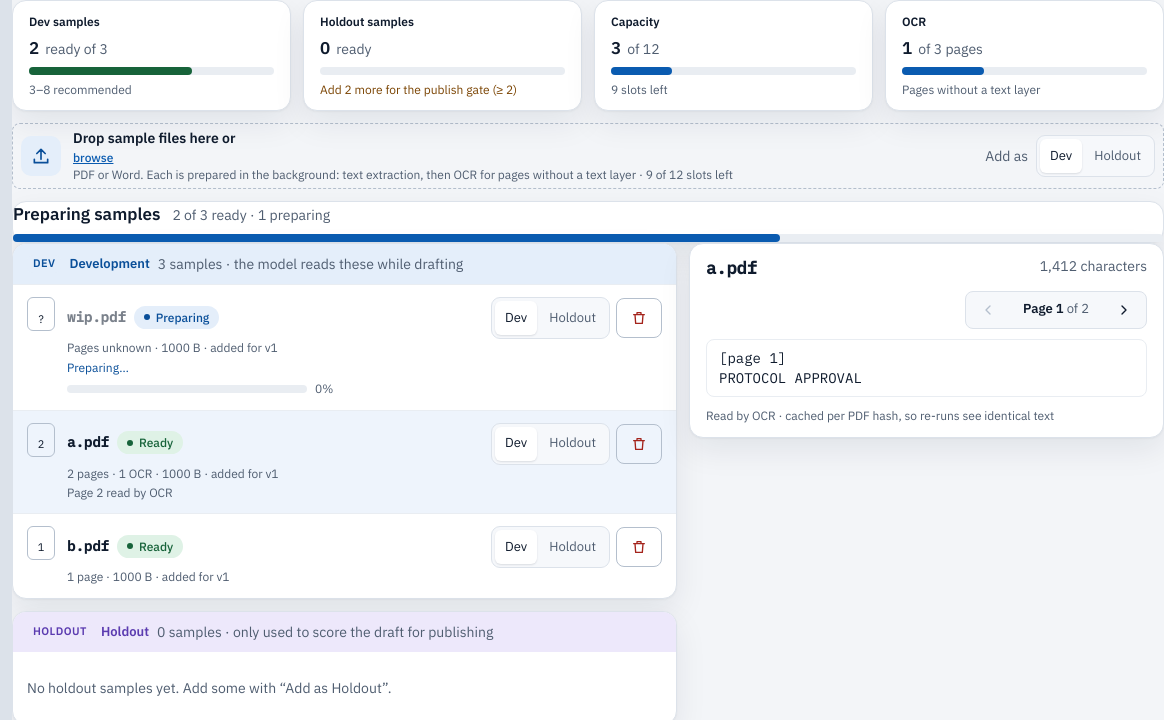
Test: SamplesTab › previews the first ready dev sample, page by page, and switches on selection
Expected: the heading "a.pdf" is shown, 706,256 -> 757,281
Expected: the element named "Text preview" shows "1,412 characters", 689,243 -> 1163,438
Click the button named "Next page": (1124, 310) 1104,294 -> 1144,326
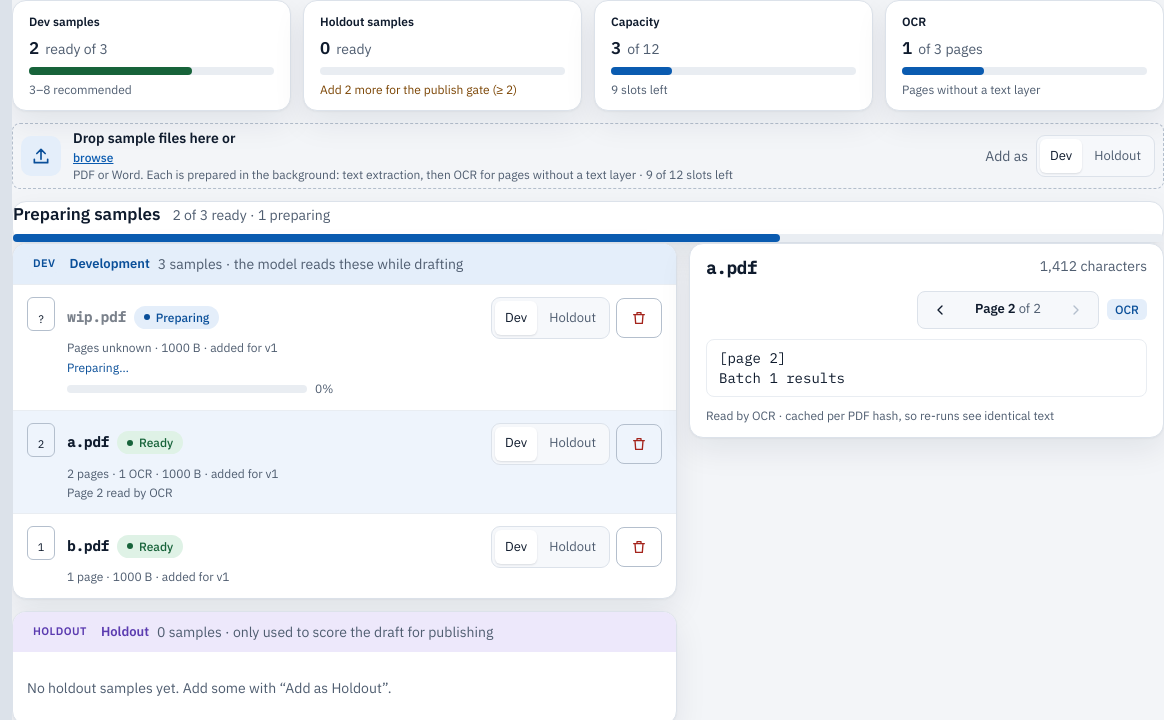
Expected: the element named "Text preview" shows "Read by OCR · cached per PDF hash", 689,243 -> 1163,438
Now the element "page 2" shows "Batch 1 results", box 719,349 -> 845,387
Now the navigation bar named "Pages" reads "Page 2 of 2 OCR", box 917,291 -> 1147,329
Click the button with aria-label "Show text of b.pdf": (88, 546) 67,526 -> 109,566
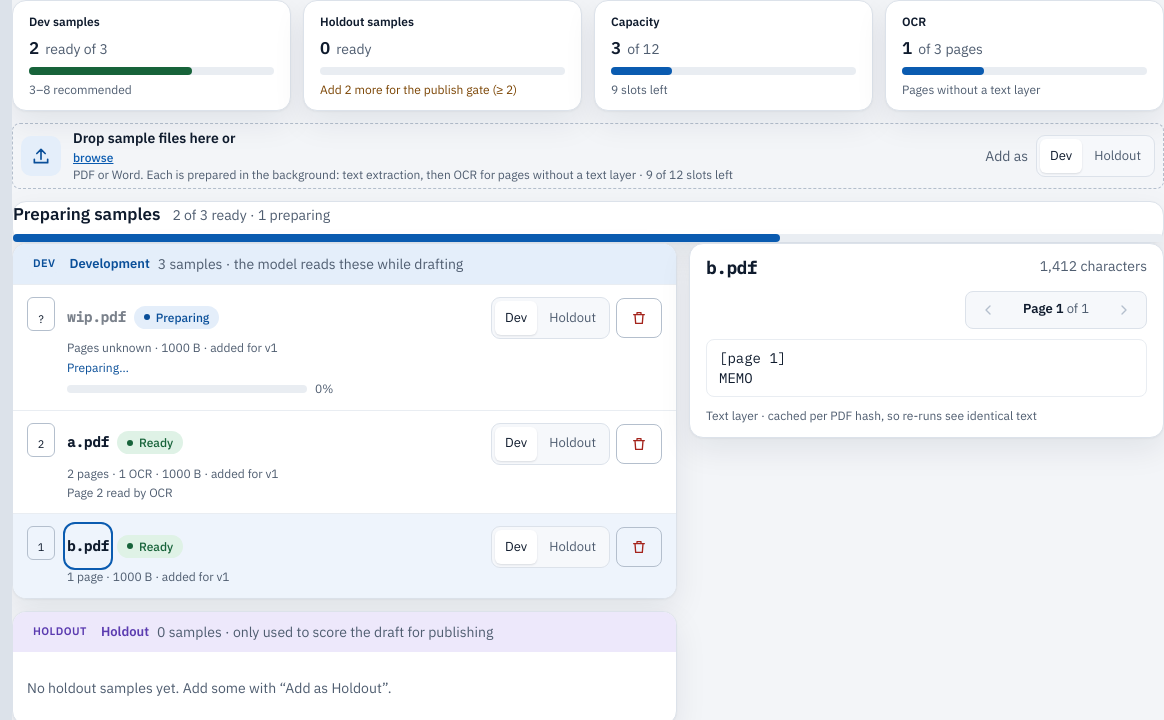
Now the text "[page 1] MEMO" is shown, box 719,349 -> 786,387
// Back to a.pdf: its text opens on page 1 again.
Click the button with aria-label "Show text of a.pdf": (88, 443) 67,423 -> 109,463
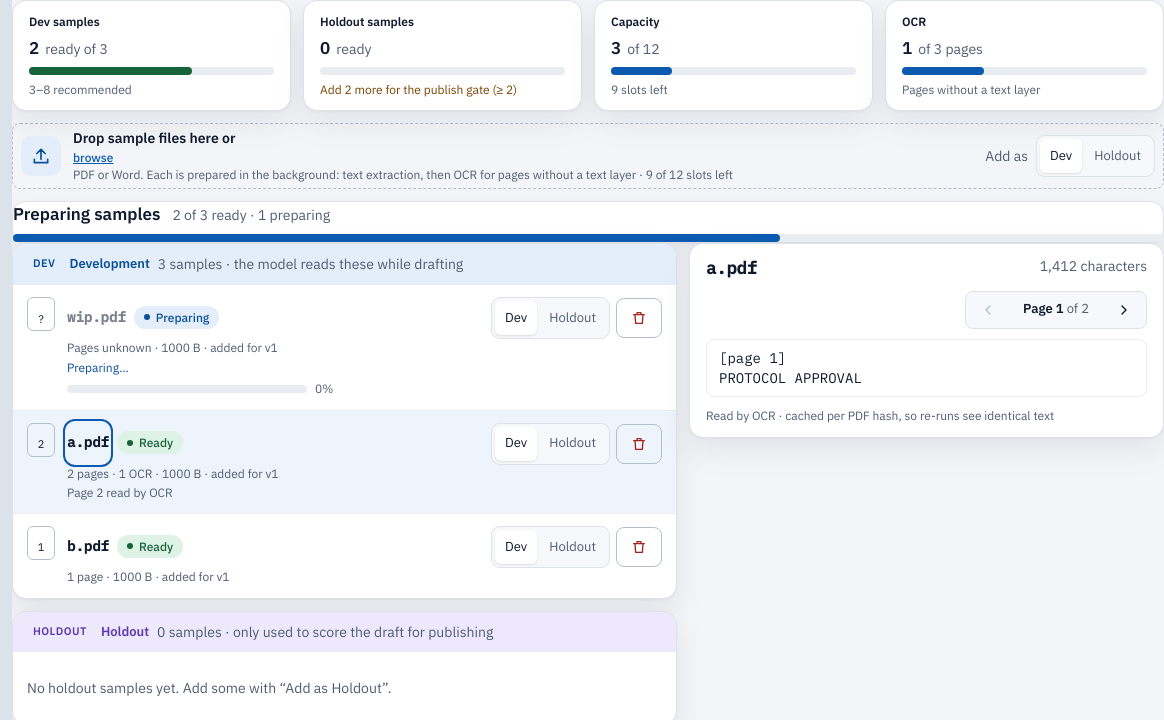
Now the element "page 1" shows "PROTOCOL APPROVAL", box 719,349 -> 862,387
